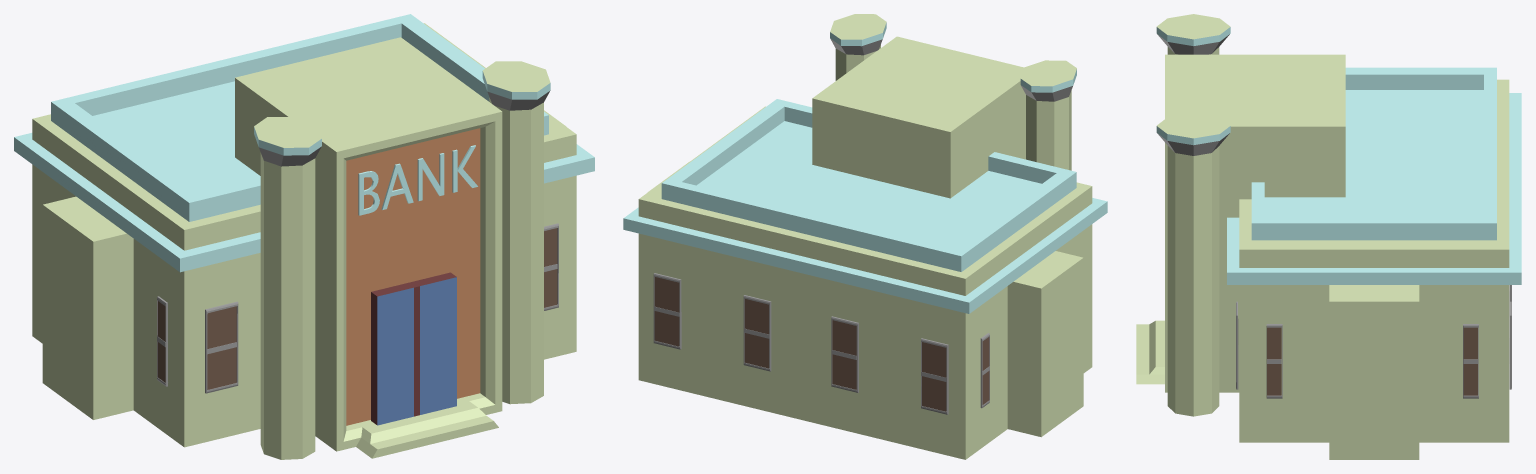
File: Bank.fbx
The picture shows the model from 3 angles, left to right: view 1: azimuth 30°, elevation 25°; view 2: azimuth 150°, elevation 25°; view 3: azimuth 270°, elevation 25°; orthographic projection. The views are drawn at different scales.
Visible parts, largest first — view 1: pCube307, pCube308, pCube310, pCylinder90, pCylinder91, pCube311, pCube309, polySurface744, typeMesh1, polySurface749, polySurface745; view 2: pCube308, pCube310, pCube307, pCube309, pCylinder90, pCylinder91, polySurface752, polySurface751, polySurface753, polySurface750, polySurface746; view 3: pCube308, pCube310, pCube307, pCylinder91, pCube309, pCylinder90, polySurface748, polySurface747.
Boxes of the visible parts, x1,y1,x2,y2 form: pCube307: (235, 37, 502, 458); pCube308: (32, 23, 576, 447); pCube310: (51, 14, 548, 221); pCylinder90: (254, 117, 321, 459); pCylinder91: (482, 61, 550, 404); pCube311: (371, 272, 456, 425); pCube309: (14, 133, 594, 272); polySurface744: (205, 301, 238, 393); typeMesh1: (358, 145, 477, 215); polySurface749: (544, 223, 558, 310); polySurface745: (157, 296, 167, 386); pCube308: (638, 106, 1092, 459); pCube310: (661, 99, 1076, 271); pCube307: (812, 36, 1025, 198); pCube309: (623, 198, 1107, 313); pCylinder90: (1020, 60, 1076, 170); pCylinder91: (830, 14, 886, 80); polySurface752: (743, 295, 771, 371); polySurface751: (653, 273, 681, 349); polySurface753: (831, 316, 858, 392); polySurface750: (921, 338, 948, 414); polySurface746: (980, 333, 989, 408); pCube308: (1239, 79, 1509, 459); pCube310: (1251, 67, 1496, 240); pCube307: (1136, 54, 1345, 392); pCylinder91: (1156, 113, 1230, 416); pCube309: (1227, 93, 1521, 284); pCylinder90: (1156, 14, 1230, 54); polySurface748: (1266, 324, 1282, 398); polySurface747: (1463, 324, 1478, 398).
Size of the model in its own units: 192 by 123 by 153.
